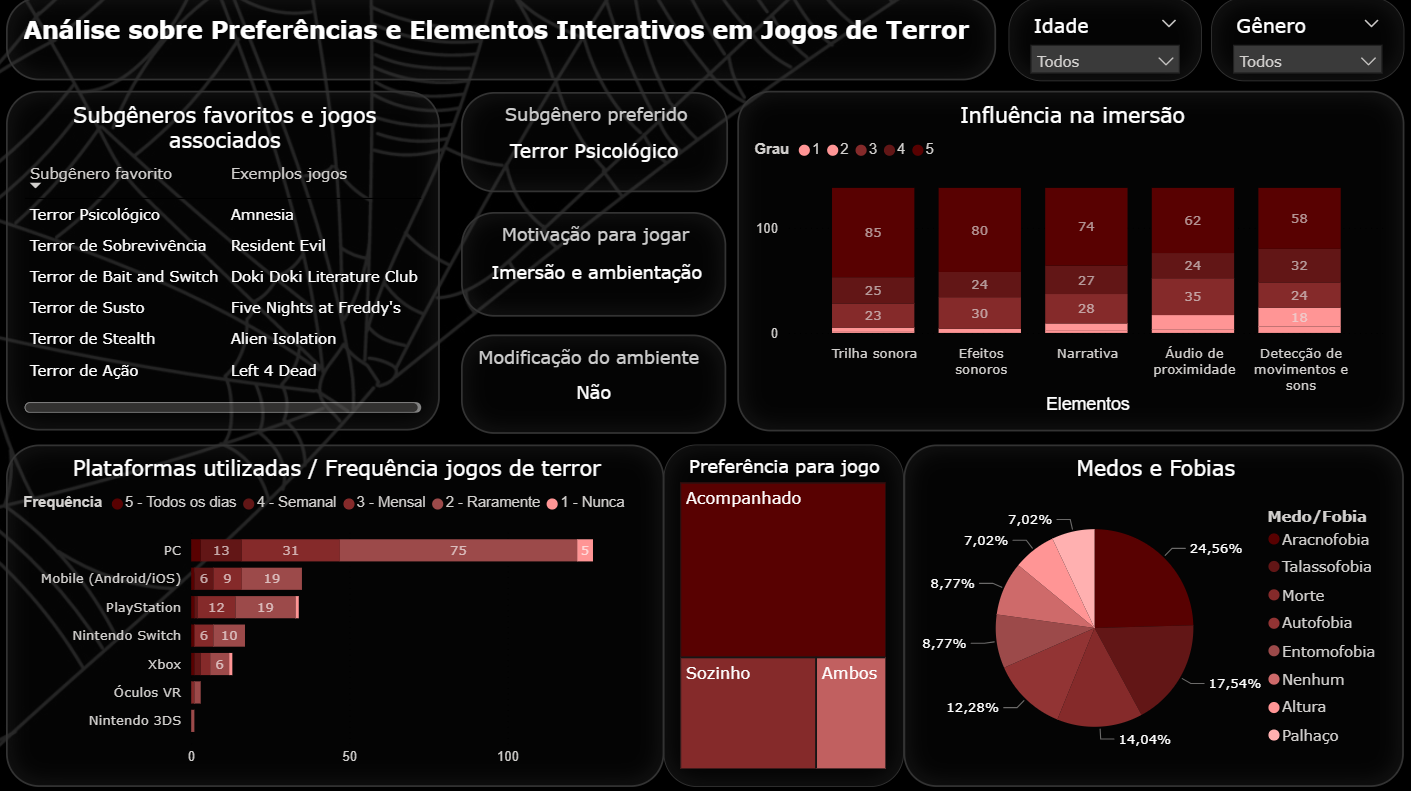

Layout of this report page (visuals, bound fields, positions):
{"tool":"powerbi","page":{"name":"Análise Preferências x Elementos Interativos","canvas":[1280,720],"ordinal":0},"visuals":[{"type":"columnChart","title":"Influência na imersão","fields":{"Category":["FatoInfluencia.Influencia"],"Y":["CountNonNull(FatoInfluencia.Grau)"],"Series":["FatoInfluencia.Grau"]},"box":[668.8,85,601.2,307.5],"z":1000},{"type":"pieChart","title":"Medos e Fobias","fields":{"Category":["DimUsuario.Medo/Fobia"],"Y":["CountNonNull(DimUsuario.Medo/Fobia)"]},"box":[818.5,403,451.6,308.5],"z":2000},{"type":"barChart","title":"Plataformas utilizadas / Frequência jogos de terror","fields":{"Category":["DimPlataformas.Qual plataforma você costuma jogar?"],"Y":["CountNonNull(DimPlataformas.Qual plataforma você costuma jogar?)"],"Series":["DimPlataformas.FrequenciaOrdenada"]},"box":[8.7,403,593.4,308.5],"z":3000},{"type":"slicer","fields":{"Values":["DimUsuario.Qual o seu gênero?"]},"box":[1095.9,0,174.2,75.9],"z":4000},{"type":"card","title":"Gênero preferido","fields":{"Values":["DimGenerosPreferidos.SubgeneroMaisFrequente"]},"box":[419.6,85.9,240.5,90.8],"z":5000},{"type":"card","title":"Motivação para jogar","fields":{"Values":["DimMotivoJogo.MotivacaoMaisFrequente"]},"box":[419.6,193.9,239.3,94.5],"z":6000},{"type":"tableEx","title":"Subgêneros favoritos e jogos associados","fields":{"Values":["SubgenerosResumo.Quais são os seus subgêneros de terror favoritos?","SubgenerosResumo.Exemplos jogo de terror"]},"box":[0,85,393.8,306.2],"z":7000},{"type":"card","title":"Modificação do ambiente","fields":{"Values":["DimUsuario.AlteraAmbienteMaisFrequente"]},"box":[419.6,304.3,239.3,89.6],"z":8000},{"type":"textbox","box":[0,0,901.9,75.9],"z":9000},{"type":"treemap","title":"Preferência para jogo","fields":{"Group":["DimUsuario.Companhia"],"Values":["CountNonNull(DimUsuario.Companhia)"]},"box":[602.1,403,216.4,308.5],"z":10000},{"type":"slicer","fields":{"Values":["DimUsuario.Idade"]},"box":[913.1,0,174.2,75.9],"z":11000}]}

Visuals, with their boxes in screenshot pixels (x1, y1, x2, y2), scaled from the page's 1280x720 canvas onto the 1411x791 screenshot:
"Influência na imersão" columnChart: select_region(737, 93, 1400, 431)
"Medos e Fobias" pieChart: select_region(902, 443, 1400, 782)
"Plataformas utilizadas / Frequência jogos de terror" barChart: select_region(10, 443, 664, 782)
slicer - DimUsuario.Qual o seu gênero?: select_region(1208, 0, 1400, 83)
"Gênero preferido" card: select_region(463, 94, 728, 194)
"Motivação para jogar" card: select_region(463, 213, 726, 317)
"Subgêneros favoritos e jogos associados" tableEx: select_region(0, 93, 434, 430)
"Modificação do ambiente" card: select_region(463, 334, 726, 433)
textbox: select_region(0, 0, 994, 83)
"Preferência para jogo" treemap: select_region(664, 443, 902, 782)
slicer - DimUsuario.Idade: select_region(1007, 0, 1199, 83)
